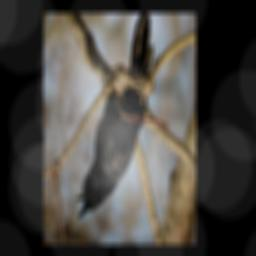Crow: (74, 14, 155, 223)
